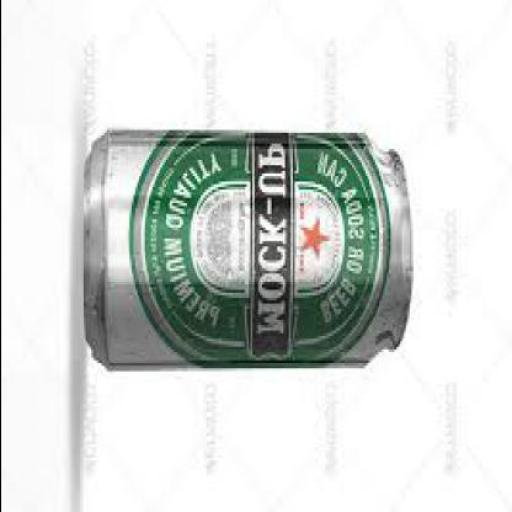metal: (85, 130, 412, 371)
